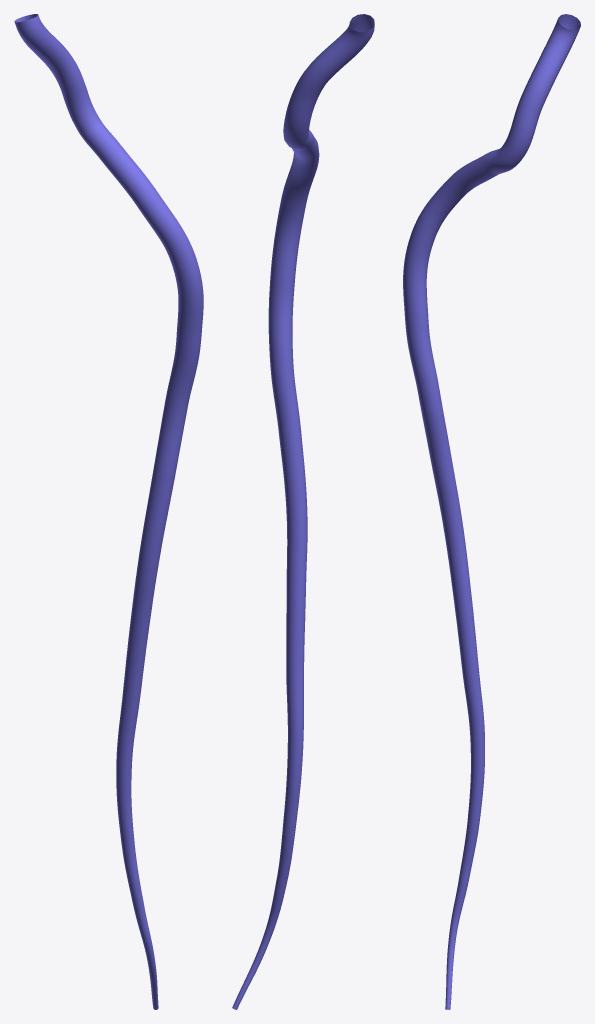
Rendered from Anterior_tibial_veins.r_BezierCurve.319.glb.
3 views of the same model, side by side, from view 1: azimuth 90°, elevation 25°; view 2: azimuth 210°, elevation 25°; view 3: azimuth 270°, elevation 25° (orthographic). The views are drawn at different scales.
Parts seen in each view (by area): view 1: Anterior_tibial_veins.r_BezierCurve.319; view 2: Anterior_tibial_veins.r_BezierCurve.319; view 3: Anterior_tibial_veins.r_BezierCurve.319.
Boxes of the visible parts, left/top/right/bottom form: Anterior_tibial_veins.r_BezierCurve.319: left=14, top=14, right=203, bottom=1009; Anterior_tibial_veins.r_BezierCurve.319: left=232, top=14, right=374, bottom=1009; Anterior_tibial_veins.r_BezierCurve.319: left=403, top=14, right=580, bottom=1009.
Size of the model in its own units: 0.0259 by 0.2911 by 0.0487.
